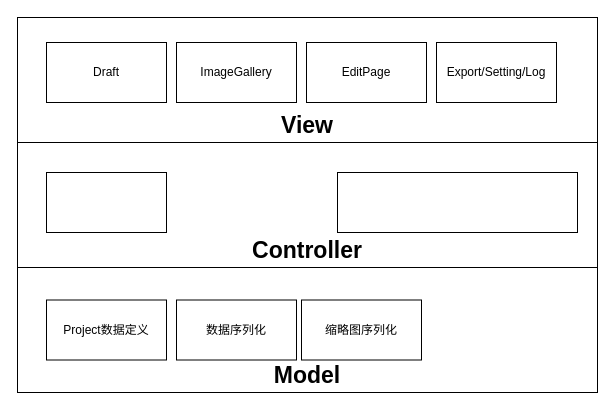
The diagram is 615 pixels wide and 410 high, and some of its shapes have lost their labels. The centre of each missing label's shape, as x and y in pixels:
"Dispatcher" belongs at (106,202).
"VLME" belongs at (457,202).
